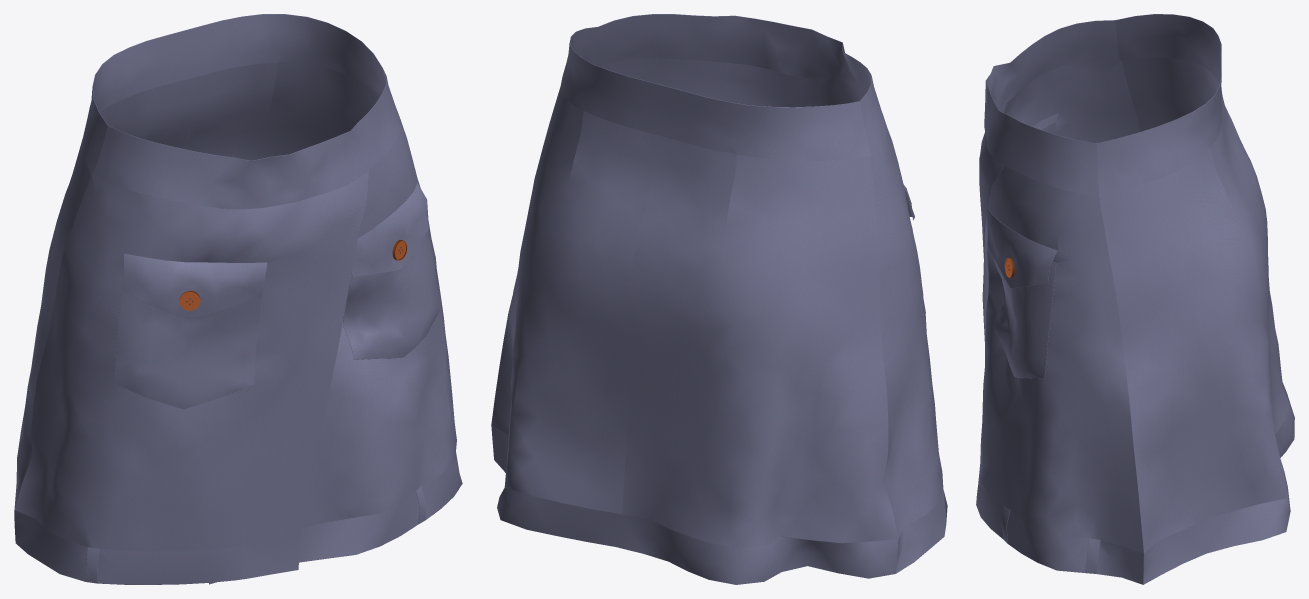
The picture shows the model from 3 angles, left to right: view 1: azimuth 30°, elevation 25°; view 2: azimuth 150°, elevation 25°; view 3: azimuth 270°, elevation 25°; orthographic projection. The views are drawn at different scales.
Parts seen in each view (by area): view 1: Pattern2D_17475, Pattern2D_17476, Pattern2D_300162, Pattern2D_300151, Pattern2D_263568, Pattern2D_408232, Pattern2D_57088, Pattern2D_408229, Pattern2D_408230, Pattern2D_408235, Pattern2D_408224, Pattern2D_408234; view 2: Pattern2D_408229, Pattern2D_263568, Pattern2D_300151, Pattern2D_17475, Pattern2D_408225, Pattern2D_300162, Pattern2D_17476, Pattern2D_57088; view 3: Pattern2D_263568, Pattern2D_17476, Pattern2D_300151, Pattern2D_300162, Pattern2D_17475, Pattern2D_408229, Pattern2D_408225, Pattern2D_408224, Pattern2D_408230, Pattern2D_408234, Pattern2D_408227.
Boxes of the visible parts, x1=… form: Pattern2D_17475: x1=14, y1=170, x2=369, y2=551; Pattern2D_17476: x1=301, y1=120, x2=456, y2=528; Pattern2D_300162: x1=93, y1=67, x2=401, y2=209; Pattern2D_300151: x1=82, y1=14, x2=385, y2=175; Pattern2D_263568: x1=182, y1=62, x2=380, y2=160; Pattern2D_408232: x1=114, y1=278, x2=261, y2=409; Pattern2D_57088: x1=14, y1=510, x2=299, y2=584; Pattern2D_408229: x1=14, y1=77, x2=195, y2=508; Pattern2D_408230: x1=343, y1=231, x2=440, y2=359; Pattern2D_408235: x1=124, y1=253, x2=267, y2=318; Pattern2D_408224: x1=209, y1=453, x2=462, y2=584; Pattern2D_408234: x1=351, y1=183, x2=428, y2=277; Pattern2D_408229: x1=622, y1=135, x2=898, y2=548; Pattern2D_263568: x1=491, y1=86, x2=655, y2=514; Pattern2D_300151: x1=560, y1=27, x2=871, y2=160; Pattern2D_17475: x1=786, y1=74, x2=943, y2=538; Pattern2D_408225: x1=491, y1=425, x2=898, y2=584; Pattern2D_300162: x1=587, y1=14, x2=887, y2=154; Pattern2D_17476: x1=599, y1=58, x2=855, y2=107; Pattern2D_57088: x1=896, y1=489, x2=946, y2=573; Pattern2D_263568: x1=1099, y1=113, x2=1287, y2=552; Pattern2D_17476: x1=978, y1=103, x2=1143, y2=553; Pattern2D_300151: x1=1096, y1=14, x2=1221, y2=196; Pattern2D_300162: x1=984, y1=20, x2=1118, y2=196; Pattern2D_17475: x1=979, y1=60, x2=1140, y2=343; Pattern2D_408229: x1=1122, y1=57, x2=1289, y2=433; Pattern2D_408225: x1=1143, y1=394, x2=1294, y2=584; Pattern2D_408224: x1=976, y1=484, x2=1143, y2=584; Pattern2D_408230: x1=993, y1=256, x2=1056, y2=378; Pattern2D_408234: x1=987, y1=209, x2=1057, y2=288; Pattern2D_408227: x1=1085, y1=538, x2=1100, y2=573.
Bounding box in the file's own units: 45.3 × 47.84 × 31.75.
